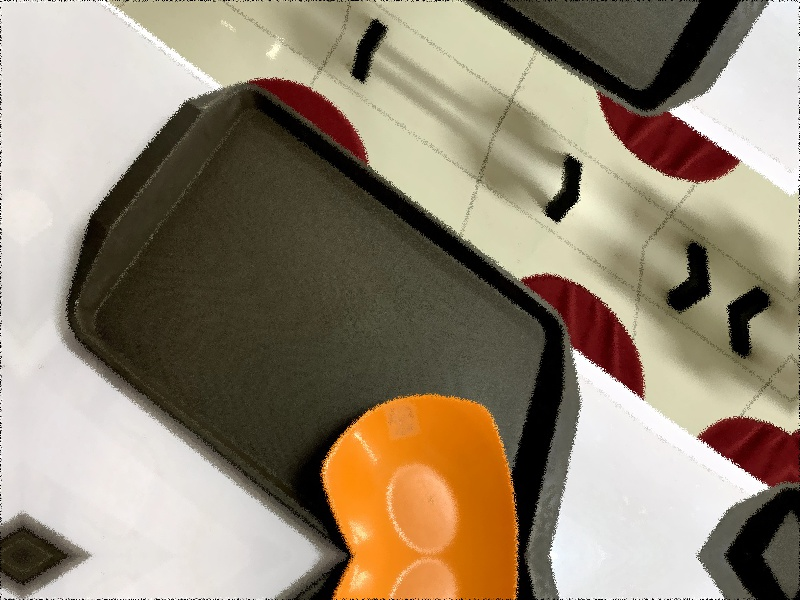dish11: (284, 324, 574, 599)
